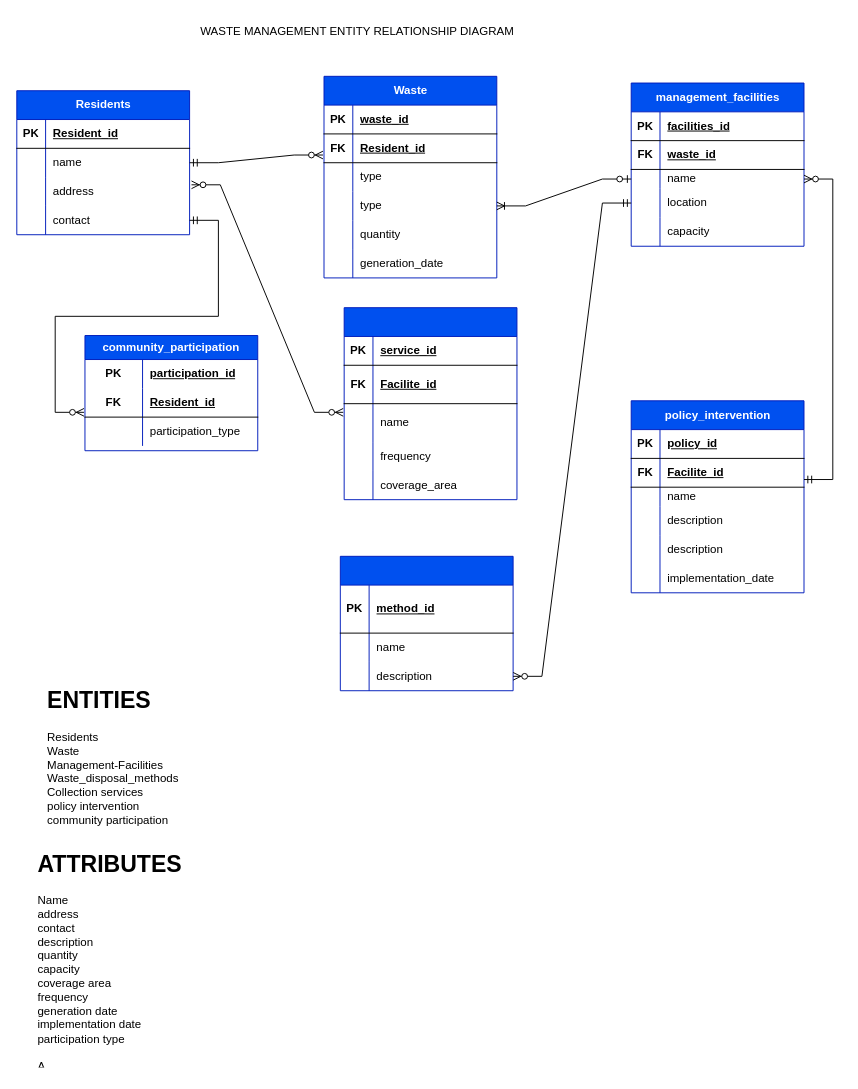
Image size: 858x1089. Some labels were removed from this diagram. The box of each missing label's shape, as (x1, y1, x2, y2) in pixels:
collection_services: (343, 307, 517, 500)
waste_disposal_methods: (339, 555, 513, 691)
